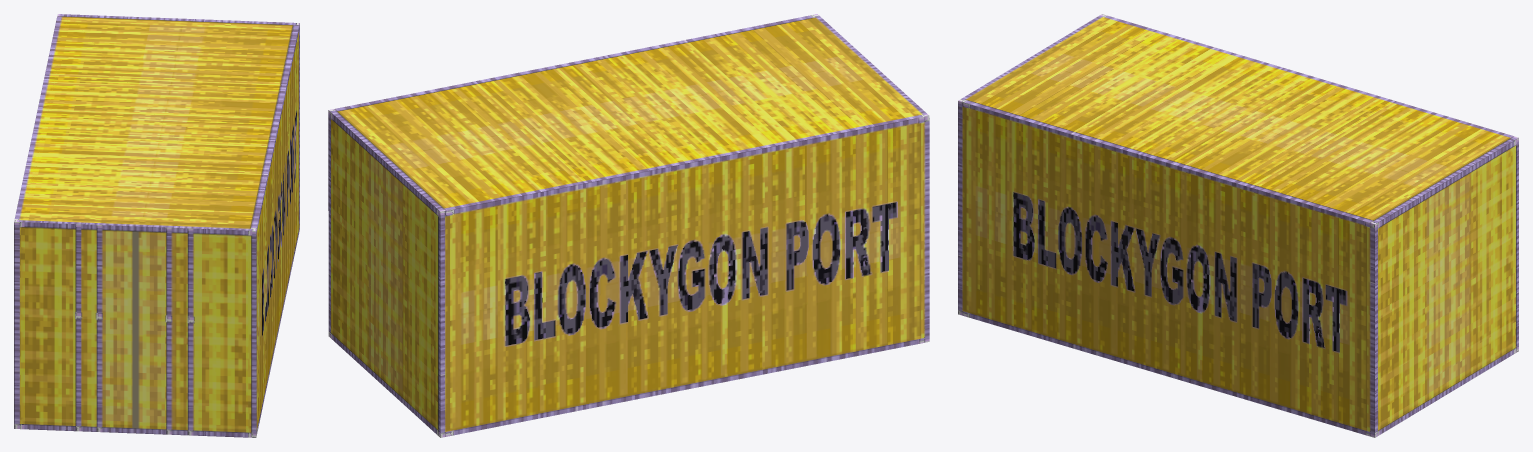
The model's file is BLOCKYGON_YELLOW CONTAINER(CLOSED).fbx.
3 views of the same model, side by side, from view 1: azimuth 30°, elevation 25°; view 2: azimuth 150°, elevation 25°; view 3: azimuth 270°, elevation 25° (orthographic). The views are drawn at different scales.
Parts seen in each view (by area): view 1: BLOCKYGON_YELLOW_CONTAINER_CLOSED_; view 2: BLOCKYGON_YELLOW_CONTAINER_CLOSED_; view 3: BLOCKYGON_YELLOW_CONTAINER_CLOSED_.
Part boxes in pixels (x1=…): BLOCKYGON_YELLOW_CONTAINER_CLOSED_: x1=14, y1=14, x2=299, y2=437; BLOCKYGON_YELLOW_CONTAINER_CLOSED_: x1=328, y1=14, x2=929, y2=437; BLOCKYGON_YELLOW_CONTAINER_CLOSED_: x1=958, y1=14, x2=1518, y2=437.
Size of the model in its own units: 431 by 204 by 486.
